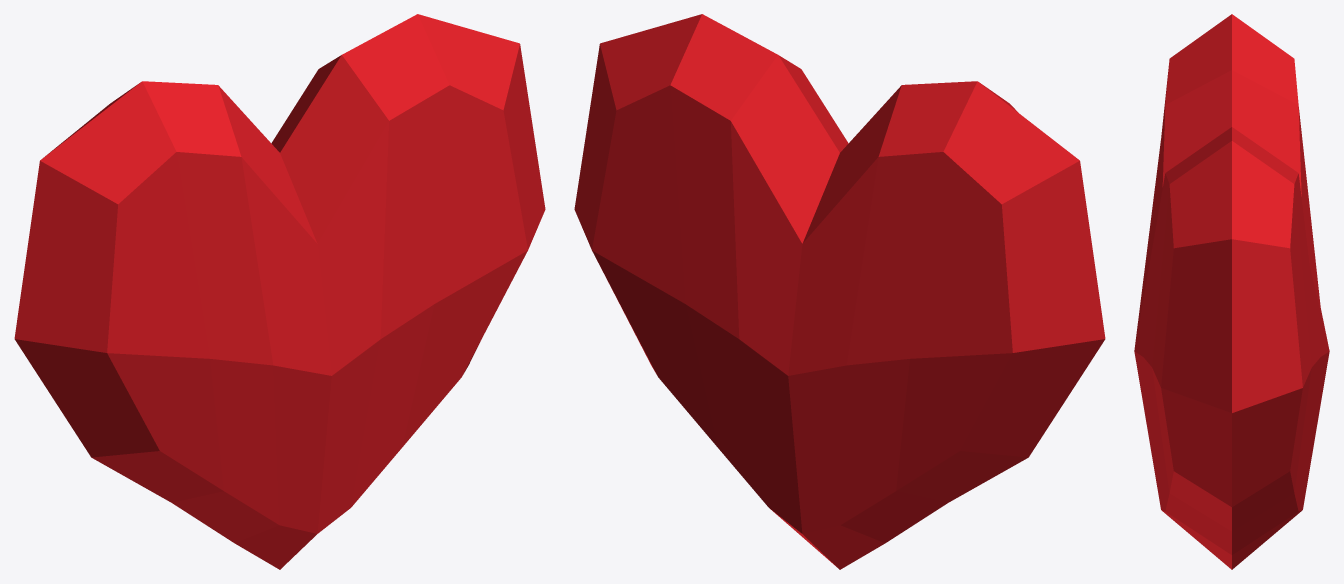
File: LowPoly_Heart.fbx
The picture shows the model from 3 angles, left to right: view 1: azimuth 30°, elevation 25°; view 2: azimuth 150°, elevation 25°; view 3: azimuth 270°, elevation 25°; orthographic projection. The views are drawn at different scales.
Visible parts, largest first — view 1: Cube; view 2: Cube; view 3: Cube.
Boxes of the visible parts, box(x1,y1,x2,y2) form: Cube: box(14, 14, 545, 569); Cube: box(574, 14, 1105, 569); Cube: box(1134, 14, 1329, 569).
Bounding box in the file's own units: 159 × 149 × 53.55.
